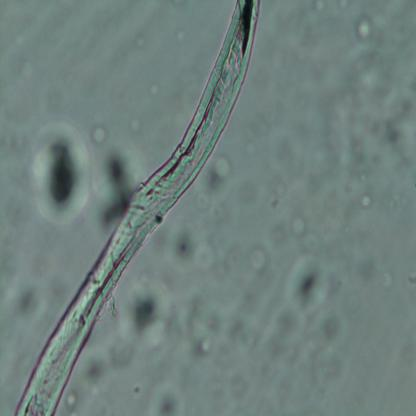Background material: (322, 56, 416, 173), (32, 122, 95, 223), (164, 290, 228, 366), (287, 255, 332, 315), (126, 282, 168, 346), (96, 149, 132, 220), (84, 338, 137, 383), (279, 209, 321, 265), (4, 278, 51, 325), (167, 223, 200, 266), (151, 380, 186, 416), (204, 155, 232, 199), (354, 14, 378, 44), (121, 108, 145, 136), (249, 245, 269, 276), (89, 123, 108, 148), (358, 192, 374, 211)
Cotton: (13, 1, 262, 415)
